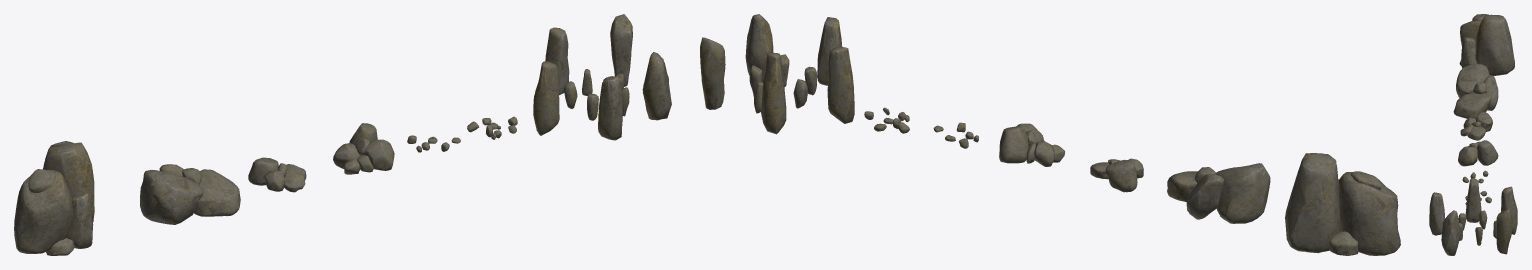
The model's file is Rocks_Group_A1.fbx.
The picture shows the model from 3 angles, left to right: view 1: azimuth 30°, elevation 25°; view 2: azimuth 150°, elevation 25°; view 3: azimuth 270°, elevation 25°; orthographic projection. The views are drawn at different scales.
Parts seen in each view (by area): view 1: Rocks_Group_A5, Rocks_Group_A1, Rocks_Group_A2, Rocks_Group_A1.001, Rocks_Group_A5.001, Rocks_Group_A1.002, Rocks_Group_A2.001, Rocks_Group_A5.002, Rocks_Group_A4, Rocks_Group_A2.002, Rocks_Group_A3, Rocks_Group_A4.001 (+6 smaller); view 2: Rocks_Group_A1, Rocks_Group_A5, Rocks_Group_A1.001, Rocks_Group_A1.002, Rocks_Group_A2, Rocks_Group_A5.001, Rocks_Group_A5.002, Rocks_Group_A2.001, Rocks_Group_A2.002, Rocks_Group_A4, Rocks_Group_A6, Rocks_Group_A3 (+6 smaller); view 3: Rocks_Group_A5, Rocks_Group_A1, Rocks_Group_A2, Rocks_Group_A1.001, Rocks_Group_A5.001, Rocks_Group_A1.002, Rocks_Group_A2.001, Rocks_Group_A5.002, Rocks_Group_A2.002, Rocks_Group_A4, Rocks_Group_A3, Rocks_Group_A6 (+8 smaller).
Boxes of the visible parts, x1,y1,x2,y2 form: Rocks_Group_A5: [533, 15, 670, 139]; Rocks_Group_A1: [14, 141, 94, 255]; Rocks_Group_A2: [140, 164, 240, 224]; Rocks_Group_A1.001: [14, 141, 92, 255]; Rocks_Group_A5.001: [533, 15, 671, 139]; Rocks_Group_A1.002: [14, 141, 94, 255]; Rocks_Group_A2.001: [140, 164, 240, 224]; Rocks_Group_A5.002: [533, 14, 671, 140]; Rocks_Group_A4: [333, 123, 394, 174]; Rocks_Group_A2.002: [140, 165, 240, 224]; Rocks_Group_A3: [249, 158, 305, 192]; Rocks_Group_A4.001: [333, 123, 393, 174]; Rocks_Group_A1: [1285, 153, 1400, 255]; Rocks_Group_A5: [700, 14, 854, 133]; Rocks_Group_A1.001: [1285, 153, 1400, 255]; Rocks_Group_A1.002: [1285, 153, 1400, 255]; Rocks_Group_A2: [1167, 163, 1269, 223]; Rocks_Group_A5.001: [700, 15, 854, 132]; Rocks_Group_A5.002: [700, 15, 854, 134]; Rocks_Group_A2.001: [1167, 163, 1269, 223]; Rocks_Group_A2.002: [1167, 163, 1270, 223]; Rocks_Group_A4: [999, 124, 1064, 166]; Rocks_Group_A6: [749, 54, 816, 113]; Rocks_Group_A3: [1090, 158, 1143, 191]; Rocks_Group_A5: [1429, 178, 1517, 255]; Rocks_Group_A1: [1459, 14, 1514, 75]; Rocks_Group_A2: [1453, 64, 1497, 118]; Rocks_Group_A1.001: [1460, 14, 1514, 75]; Rocks_Group_A5.001: [1429, 178, 1517, 255]; Rocks_Group_A1.002: [1460, 14, 1514, 75]; Rocks_Group_A2.001: [1454, 64, 1498, 118]; Rocks_Group_A5.002: [1429, 178, 1517, 255]; Rocks_Group_A2.002: [1453, 63, 1498, 118]; Rocks_Group_A4: [1458, 140, 1498, 166]; Rocks_Group_A3: [1461, 112, 1492, 140]; Rocks_Group_A6: [1458, 210, 1496, 245].
Bounding box in the file's own units: 3235 × 438 × 591.
